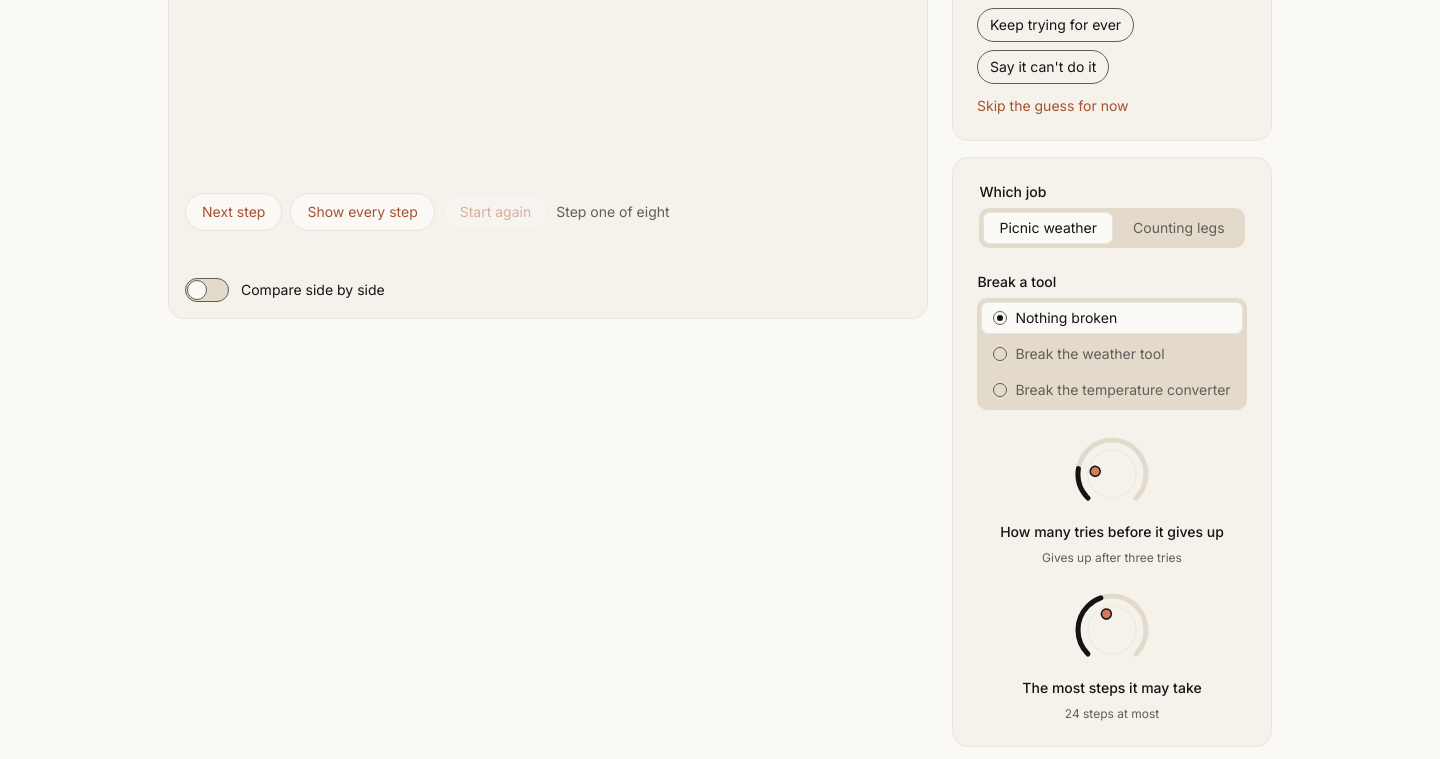
Test case: ai that takes actions: in the lesson › earns the star by breaking a tool and never giving up
(page scrolled)
Click the radio button labelled "Break the weather tool". click: x=1112, y=354
box: [981,338,1243,370]
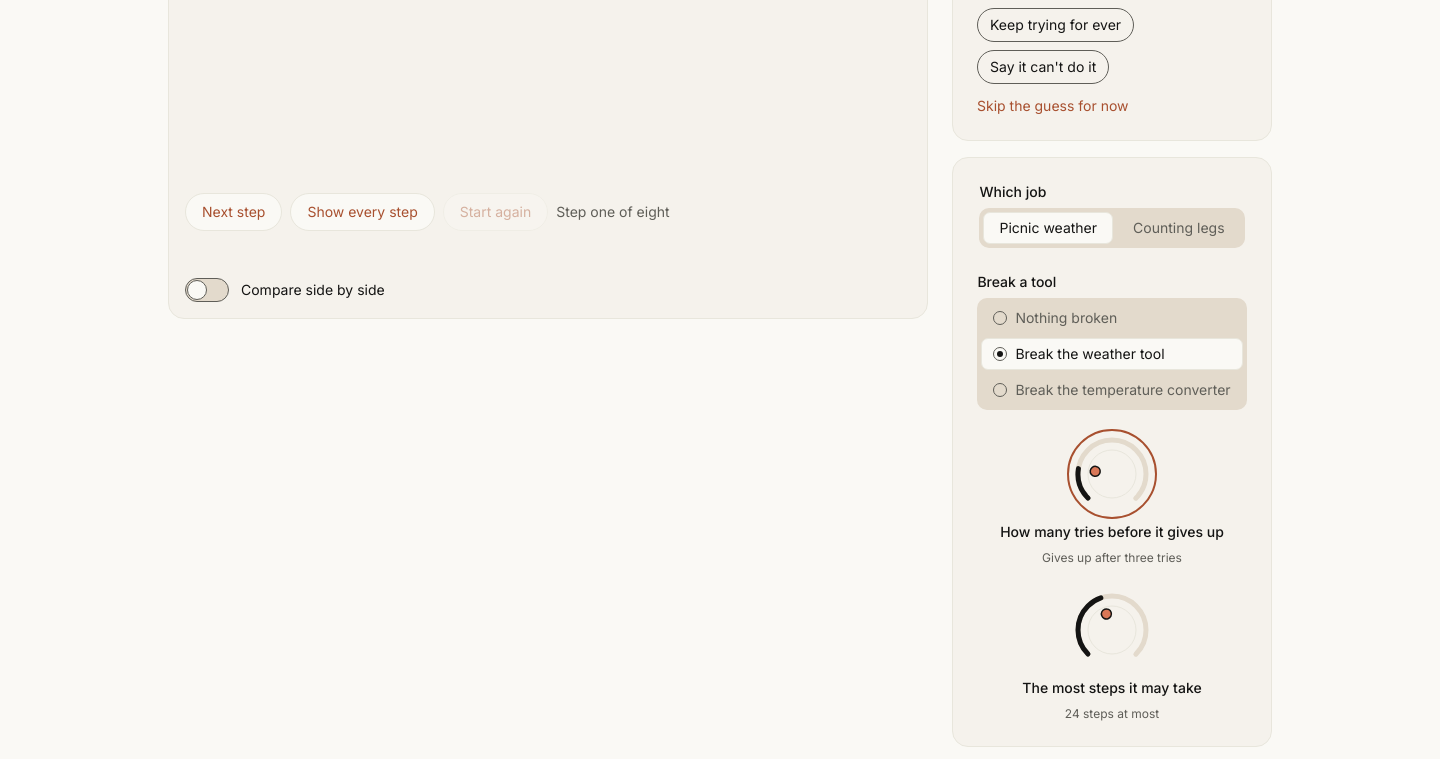
Press End
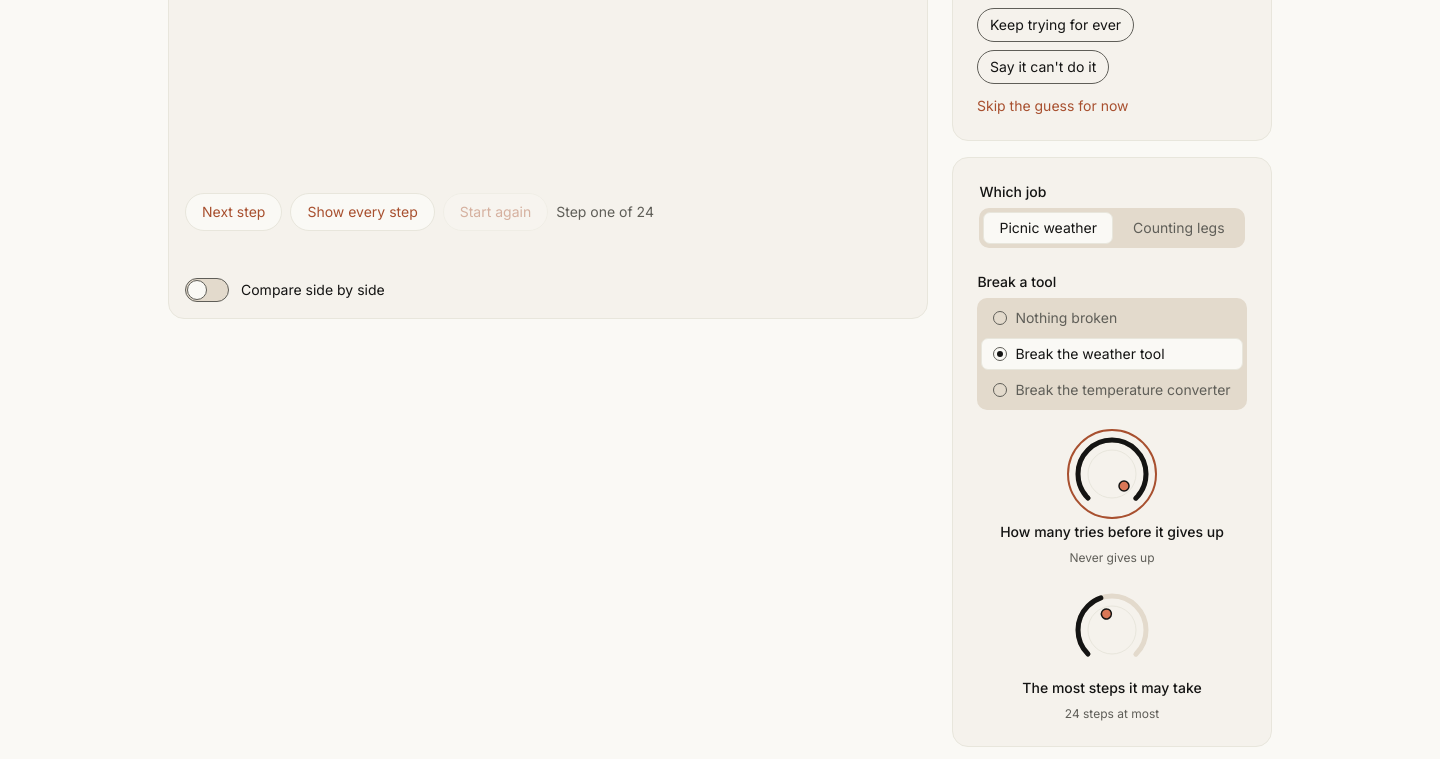
Click the button "Show every step". click: x=363, y=212
box: [290,193,435,231]
(page scrolled)
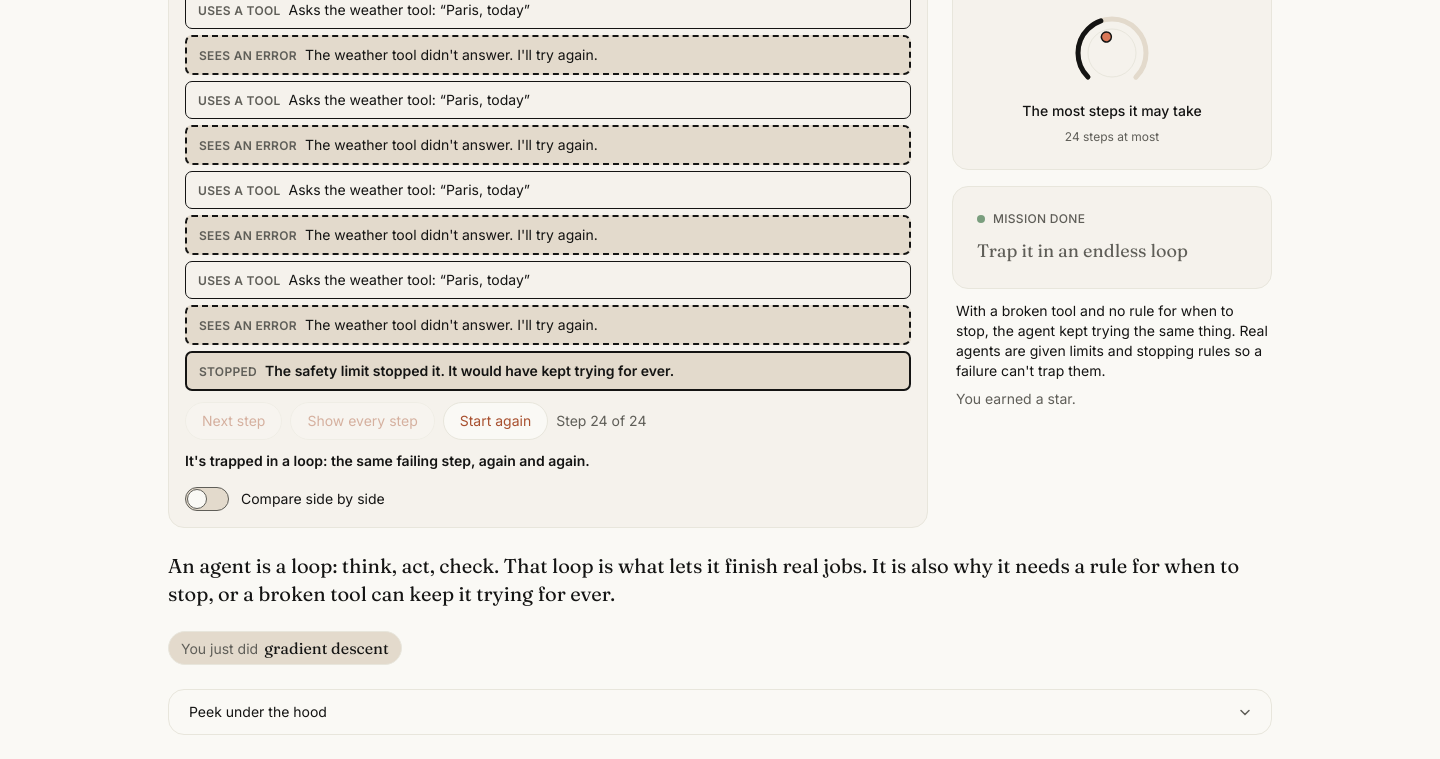
Expected: the text "You earned a star." is shown, [956,389,1076,409]
